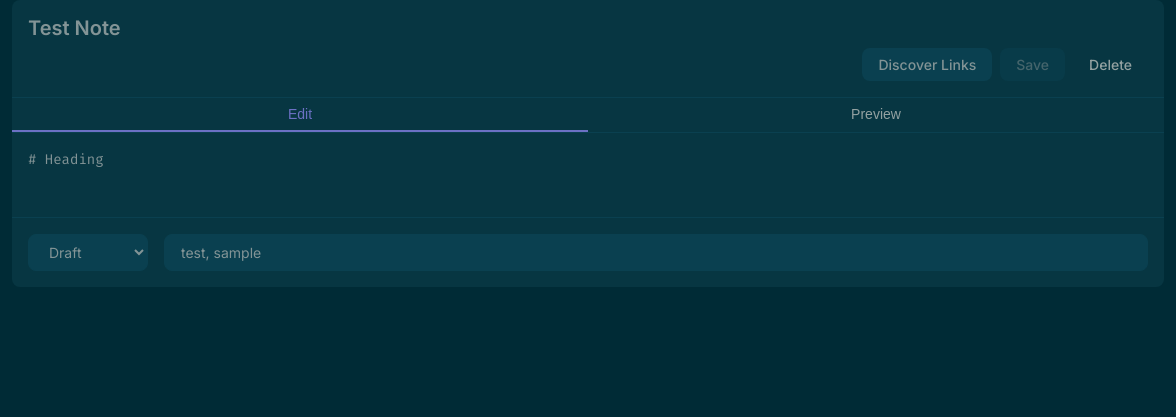
it: NoteEditor › Markdown Rendering › renders markdown in preview mode
This screenshot has width=1176, height=417.
// Switch to preview
Click the button with class "tab-btn" showing "Preview" at (876, 115), box [588,98,1164,132]
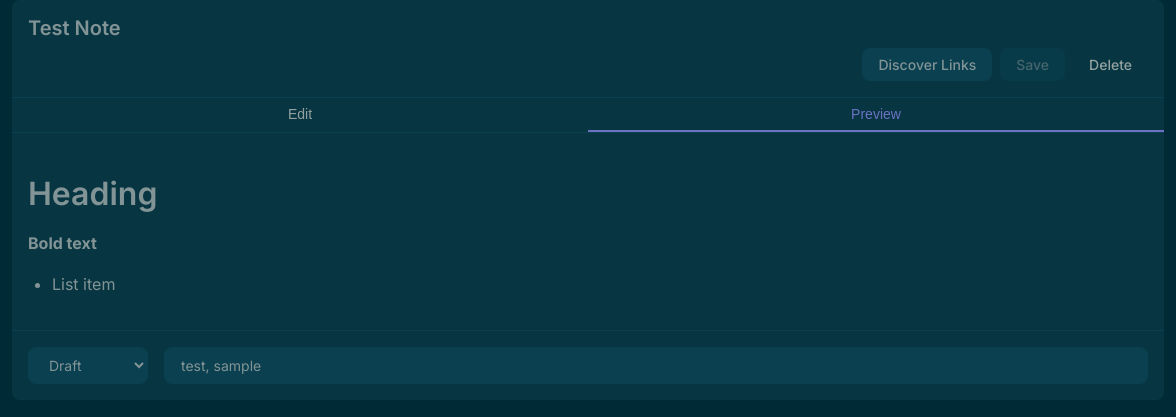
Result: the element with class "editor-preview" shows "Heading" at [28,174,157,213]
Result: the element with class "editor-preview" shows "Bold text" at [28,233,97,253]
